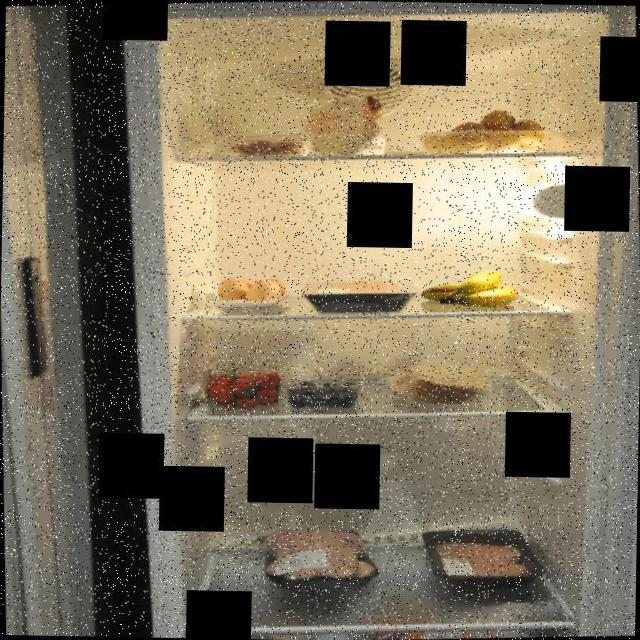Carne pollo: (258, 520, 378, 596), (416, 525, 548, 593)
Gambas/Langostinos: (222, 135, 306, 160)
Huevos: (213, 272, 288, 312)
Patata: (414, 104, 552, 158)
Plátano: (416, 263, 522, 311)
